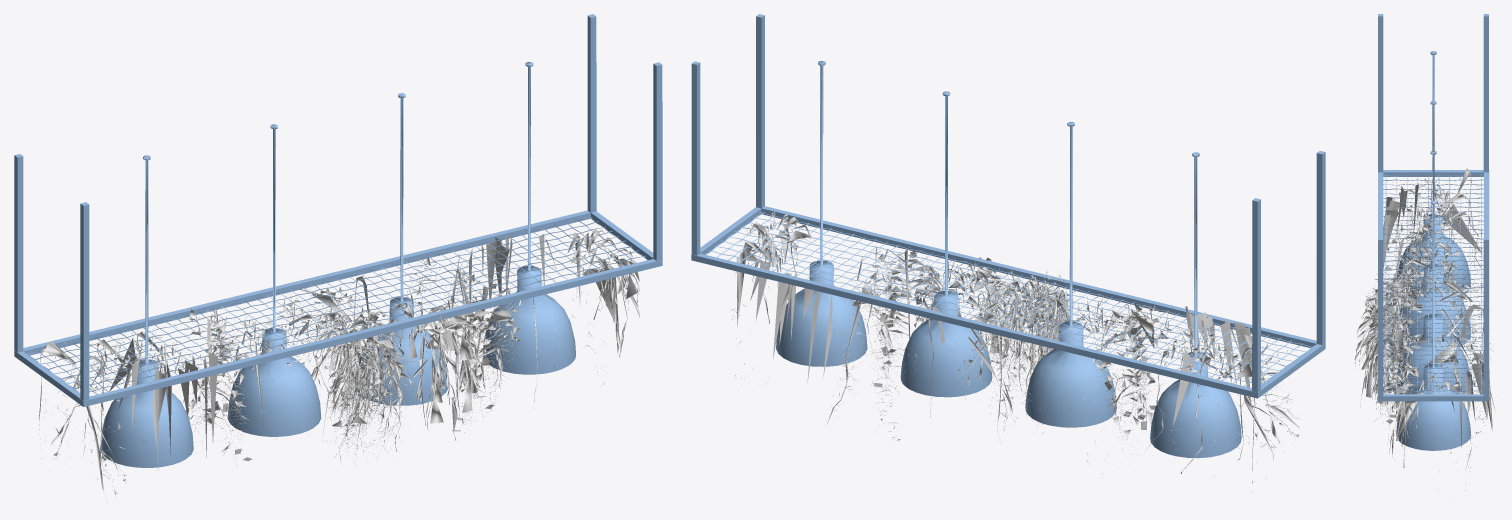
The model's file is plant-pendant.glb.
3 views of the same model, side by side, from view 1: azimuth 30°, elevation 25°; view 2: azimuth 150°, elevation 25°; view 3: azimuth 270°, elevation 25° (orthographic). The views are drawn at different scales.
Visible parts, largest first — view 1: plant-pendant_wire_088144225, plant-pendant_wire_204204204; view 2: plant-pendant_wire_088144225, plant-pendant_wire_204204204; view 3: plant-pendant_wire_088144225, plant-pendant_wire_204204204.
Part boxes in pixels (x1,y1,x2,y2): plant-pendant_wire_088144225: (14,14,662,467); plant-pendant_wire_204204204: (38,229,639,503); plant-pendant_wire_088144225: (691,14,1325,458); plant-pendant_wire_204204204: (730,211,1300,492); plant-pendant_wire_088144225: (1378,14,1489,450); plant-pendant_wire_204204204: (1354,168,1495,499).
Bounding box in the file's own units: 2.01 × 1.17 × 0.5337.
